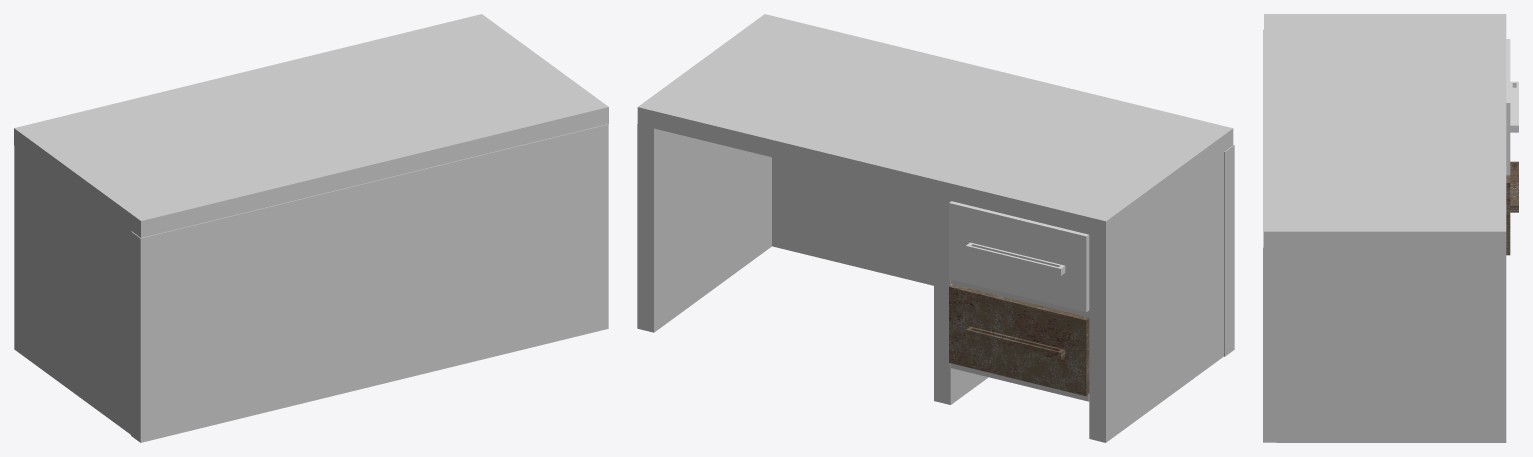
Rendered from DeskREAl.fbx.
3 views of the same model, side by side, from view 1: azimuth 30°, elevation 25°; view 2: azimuth 150°, elevation 25°; view 3: azimuth 270°, elevation 25° (orthographic). The views are drawn at different scales.
Parts seen in each view (by area): view 1: Desk; view 2: Desk, Desk.002, Desk.001; view 3: Desk, Desk.001, Desk.002.
Part boxes in pixels (x1,y1,x2,y2): Desk: (14,14,608,442); Desk: (637,14,1234,442); Desk.002: (949,284,1089,396); Desk.001: (949,201,1089,312); Desk: (1263,14,1506,442); Desk.001: (1506,39,1518,175); Desk.002: (1506,161,1518,255).
Bounding box in the file's own units: 759 × 342 × 376.
